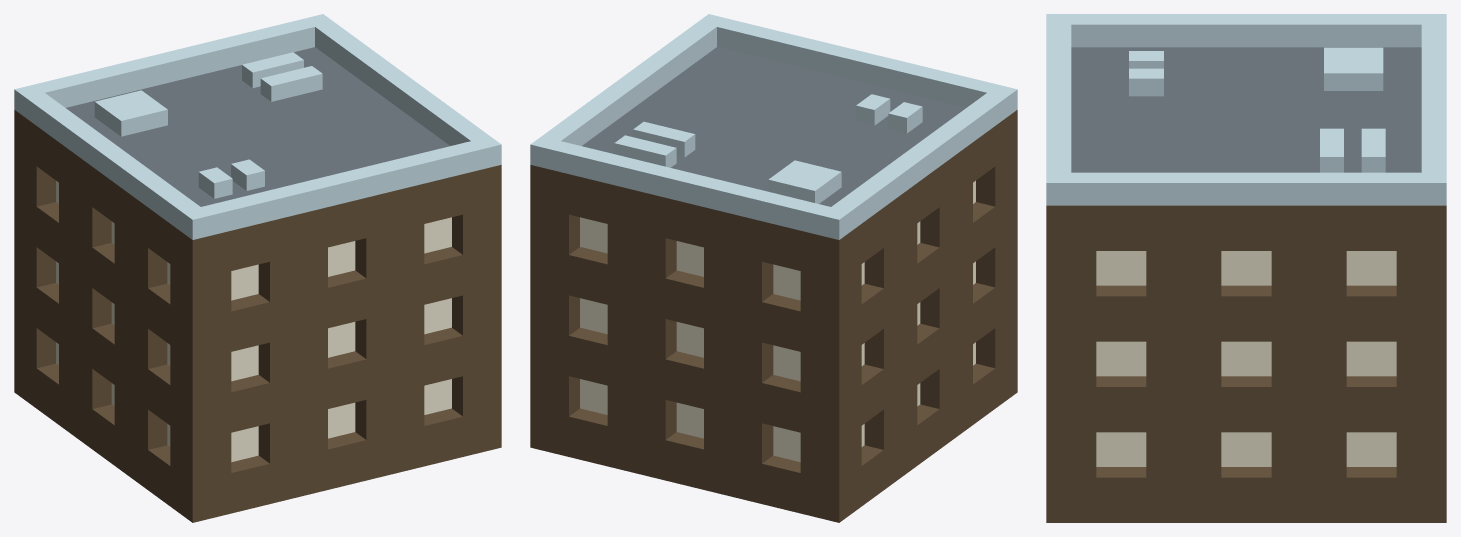
Rendered from Building_2_Extra (Brown).obj.
The picture shows the model from 3 angles, left to right: view 1: azimuth 30°, elevation 25°; view 2: azimuth 150°, elevation 25°; view 3: azimuth 270°, elevation 25°; orthographic projection. The views are drawn at different scales.
Visible parts, largest first — view 1: Building_2_Extra_(Brown); view 2: Building_2_Extra_(Brown); view 3: Building_2_Extra_(Brown).
Boxes of the visible parts, box(x1,y1,x2,y2) form: Building_2_Extra_(Brown): box(14, 14, 501, 522); Building_2_Extra_(Brown): box(530, 14, 1017, 522); Building_2_Extra_(Brown): box(1046, 14, 1446, 522).
Size of the model in its own units: 1.6 by 1.5 by 1.6.
